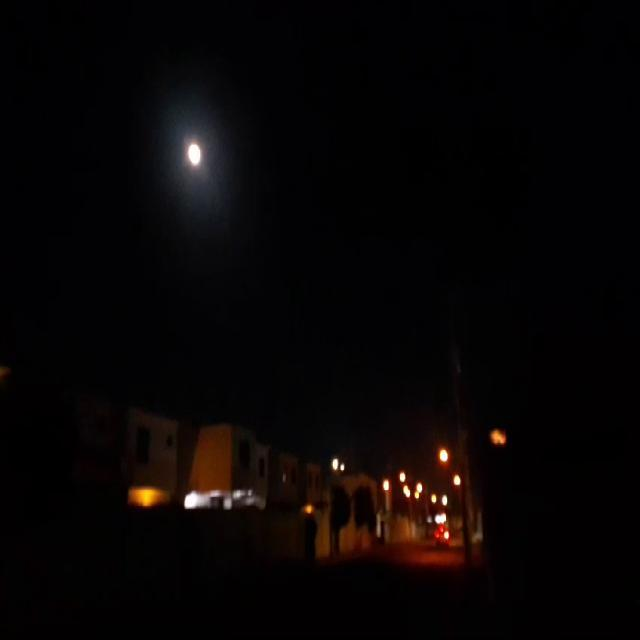moon: (186, 144, 206, 178)
